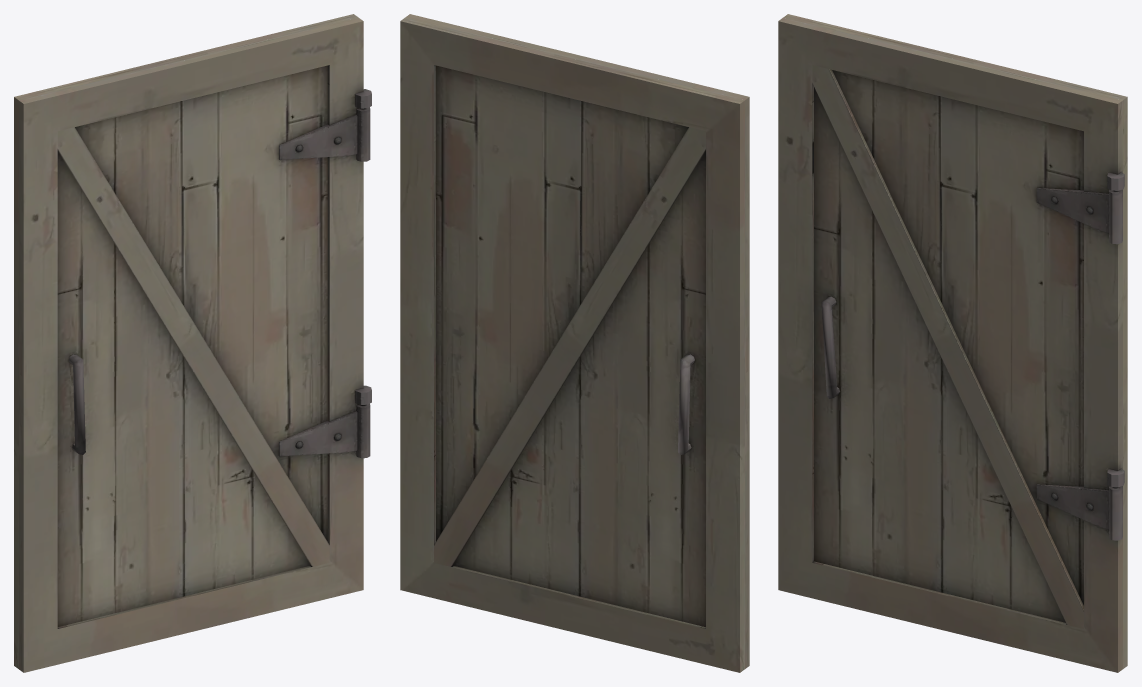
The picture shows the model from 3 angles, left to right: view 1: azimuth 30°, elevation 25°; view 2: azimuth 150°, elevation 25°; view 3: azimuth 330°, elevation 25°; orthographic projection.
Parts seen in each view (by area): view 1: body0_model0_lod0_mesh0, body0_model0_lod0_mesh1; view 2: body0_model0_lod0_mesh1, body0_model0_lod0_mesh0; view 3: body0_model0_lod0_mesh0, body0_model0_lod0_mesh1.
Boxes of the visible parts, x1,y1,x2,y2 form: body0_model0_lod0_mesh0: (19, 17, 371, 672); body0_model0_lod0_mesh1: (14, 14, 358, 668); body0_model0_lod0_mesh1: (400, 17, 744, 672); body0_model0_lod0_mesh0: (405, 14, 749, 668); body0_model0_lod0_mesh0: (778, 17, 1124, 672); body0_model0_lod0_mesh1: (783, 14, 1127, 668).
Size of the model in its own units: 81.56 by 128 by 8.41.
2 materials, 2 textured.
